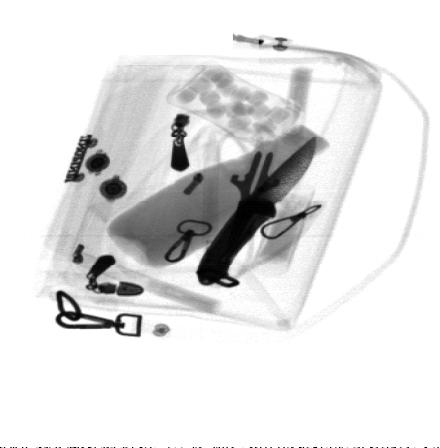Knife: (195, 133, 318, 287)
Scissors: (212, 123, 323, 263)
